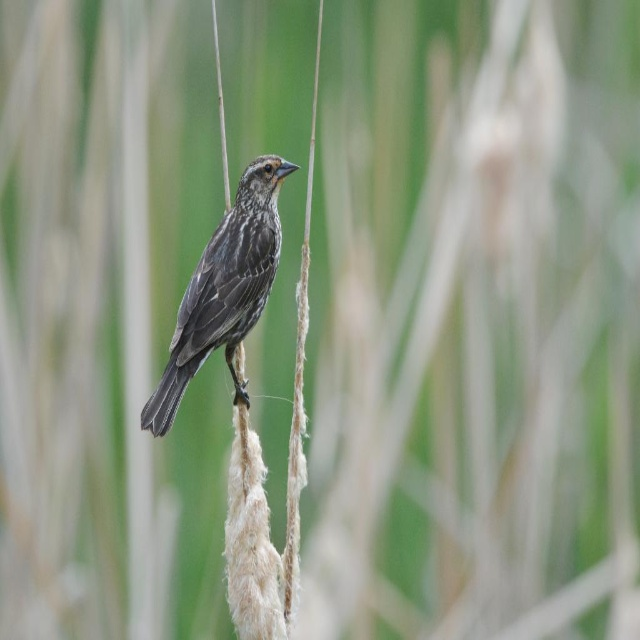Sparrow: (138, 150, 302, 440)
